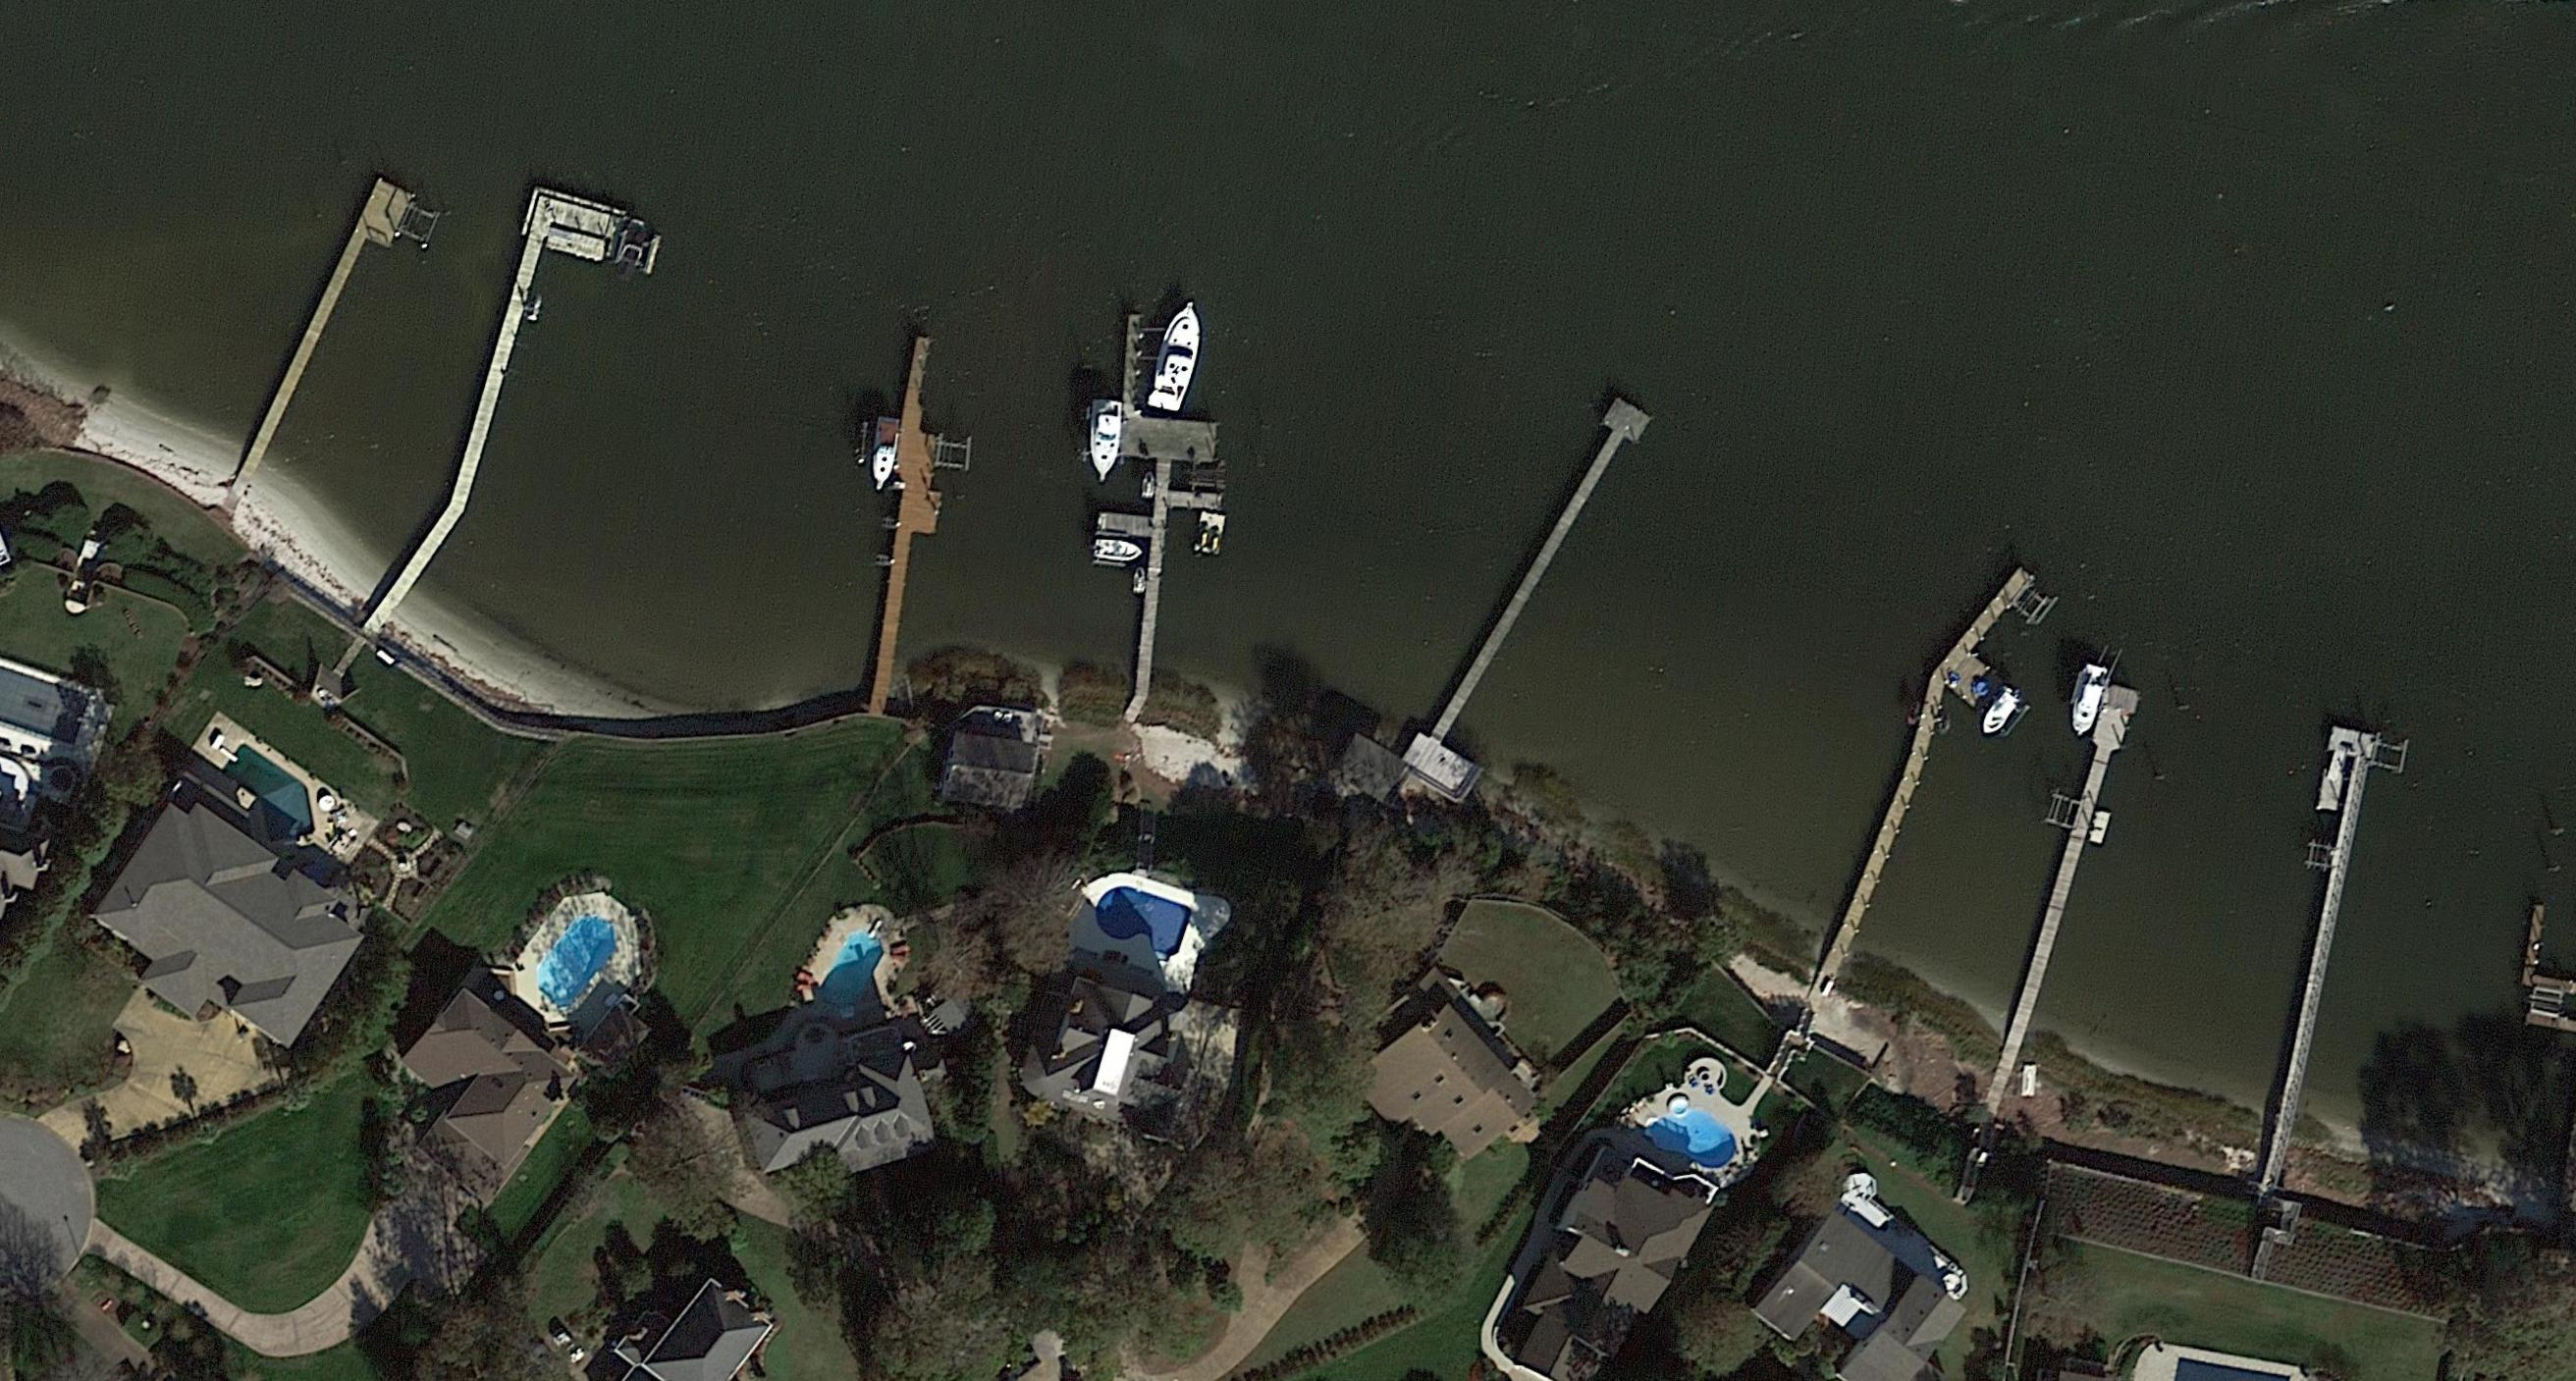harbor: (1424, 397, 1653, 749), (451, 198, 663, 538), (249, 175, 445, 485), (1087, 312, 1227, 685), (2252, 725, 2382, 1112), (2010, 683, 2140, 1020), (867, 337, 964, 664), (1934, 564, 2067, 717)
ship: (1141, 295, 1213, 414), (1078, 395, 1130, 478), (2060, 661, 2109, 737), (865, 414, 905, 494), (1973, 683, 2026, 741), (1087, 531, 1148, 569), (1193, 511, 1227, 560), (1138, 467, 1157, 499), (1133, 567, 1148, 594)
